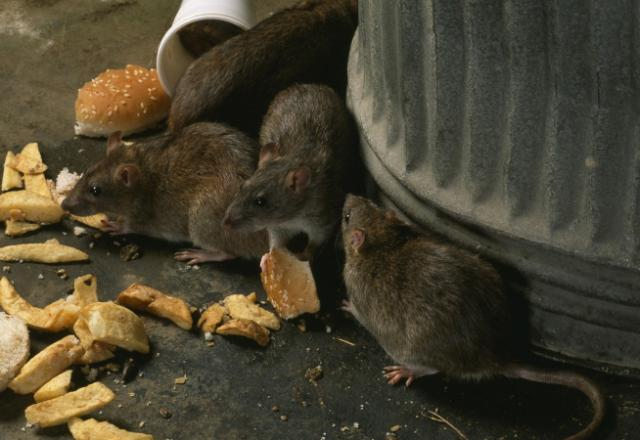rat: (318, 182, 554, 394), (51, 109, 257, 274), (216, 71, 350, 268)
